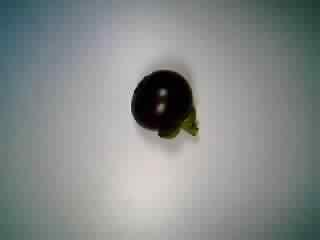mangosteen: (128, 65, 202, 141)
